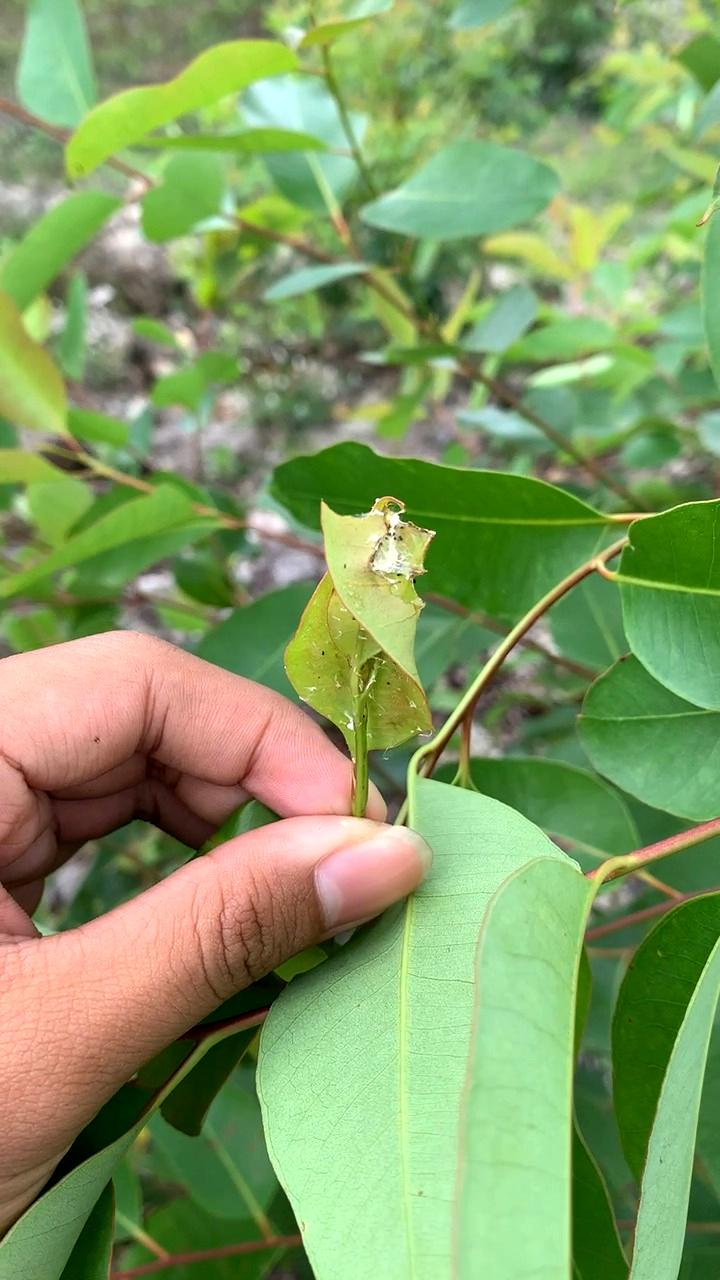Leaf Roller - Leaf: (293, 493, 449, 751)
